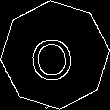O_N: (31, 27, 79, 83)
